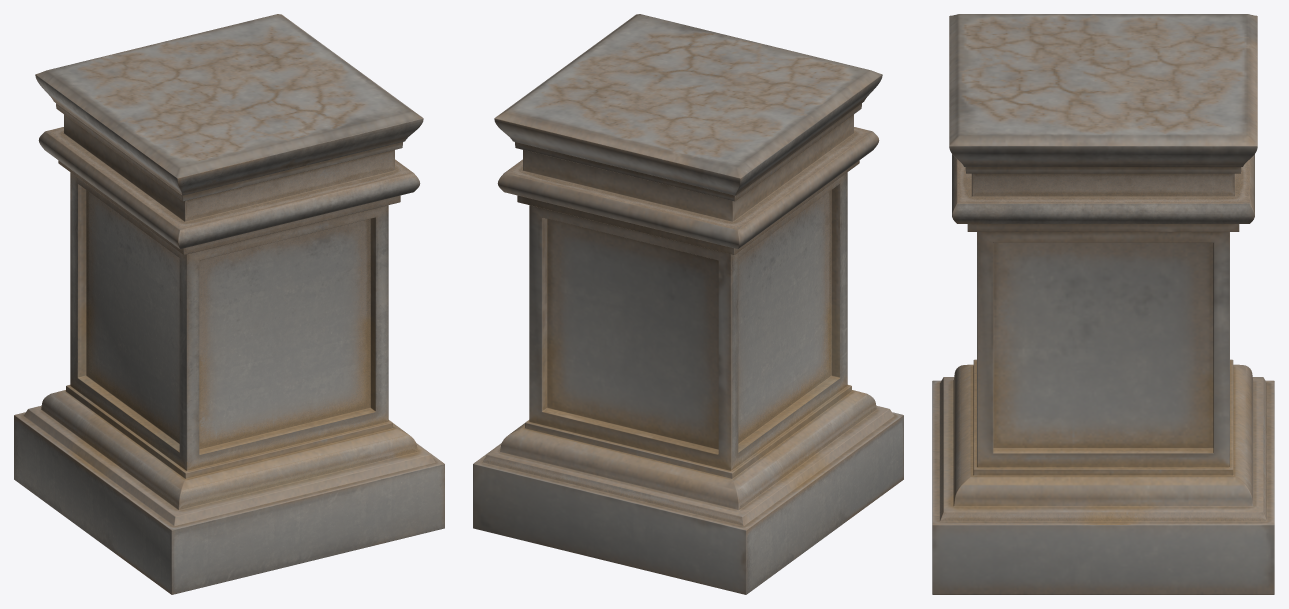
3 renders of one model, left to right at view 1: azimuth 30°, elevation 25°; view 2: azimuth 150°, elevation 25°; view 3: azimuth 270°, elevation 25°, orthographic. The views are drawn at different scales.
Visible parts, largest first — view 1: Pedestal; view 2: Pedestal; view 3: Pedestal.
Part boxes in pixels (<box>): Pedestal: <box>14,14,444,594</box>; Pedestal: <box>473,14,903,594</box>; Pedestal: <box>932,14,1274,594</box>.
Bounding box in the file's own units: 0.8426 × 1.22 × 0.8426.
Materials: 1 (1 with a texture image).
